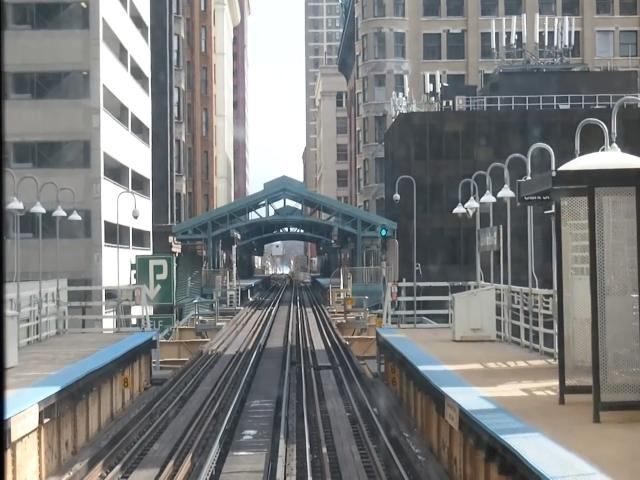signal light: (379, 225, 390, 265)
